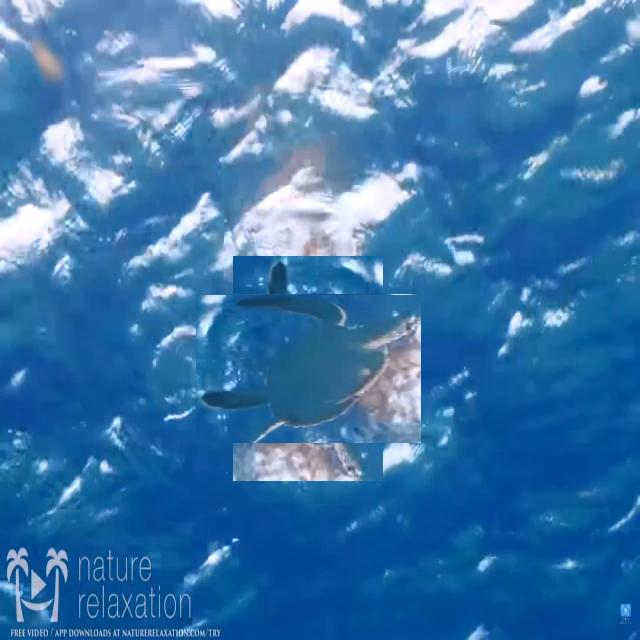Sea turtle: (215, 275, 402, 462)
